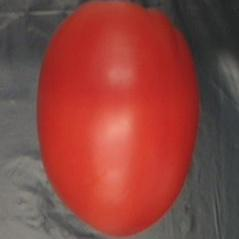unripe: (33, 0, 207, 239)
